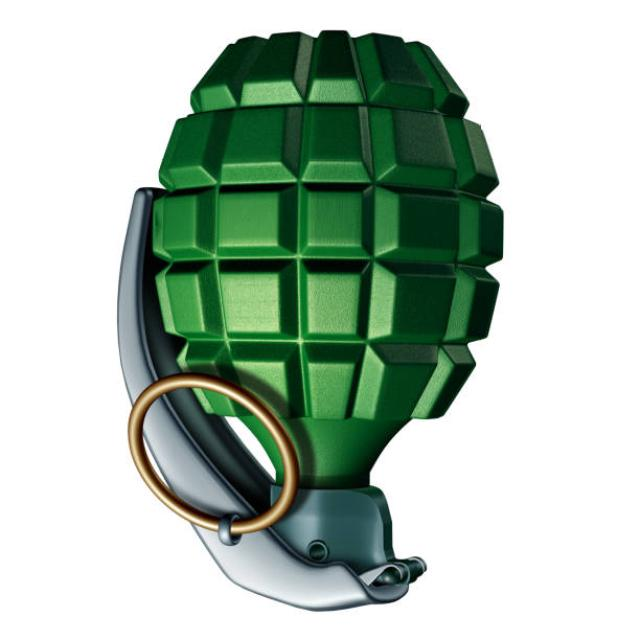grenade: (97, 25, 509, 621)
